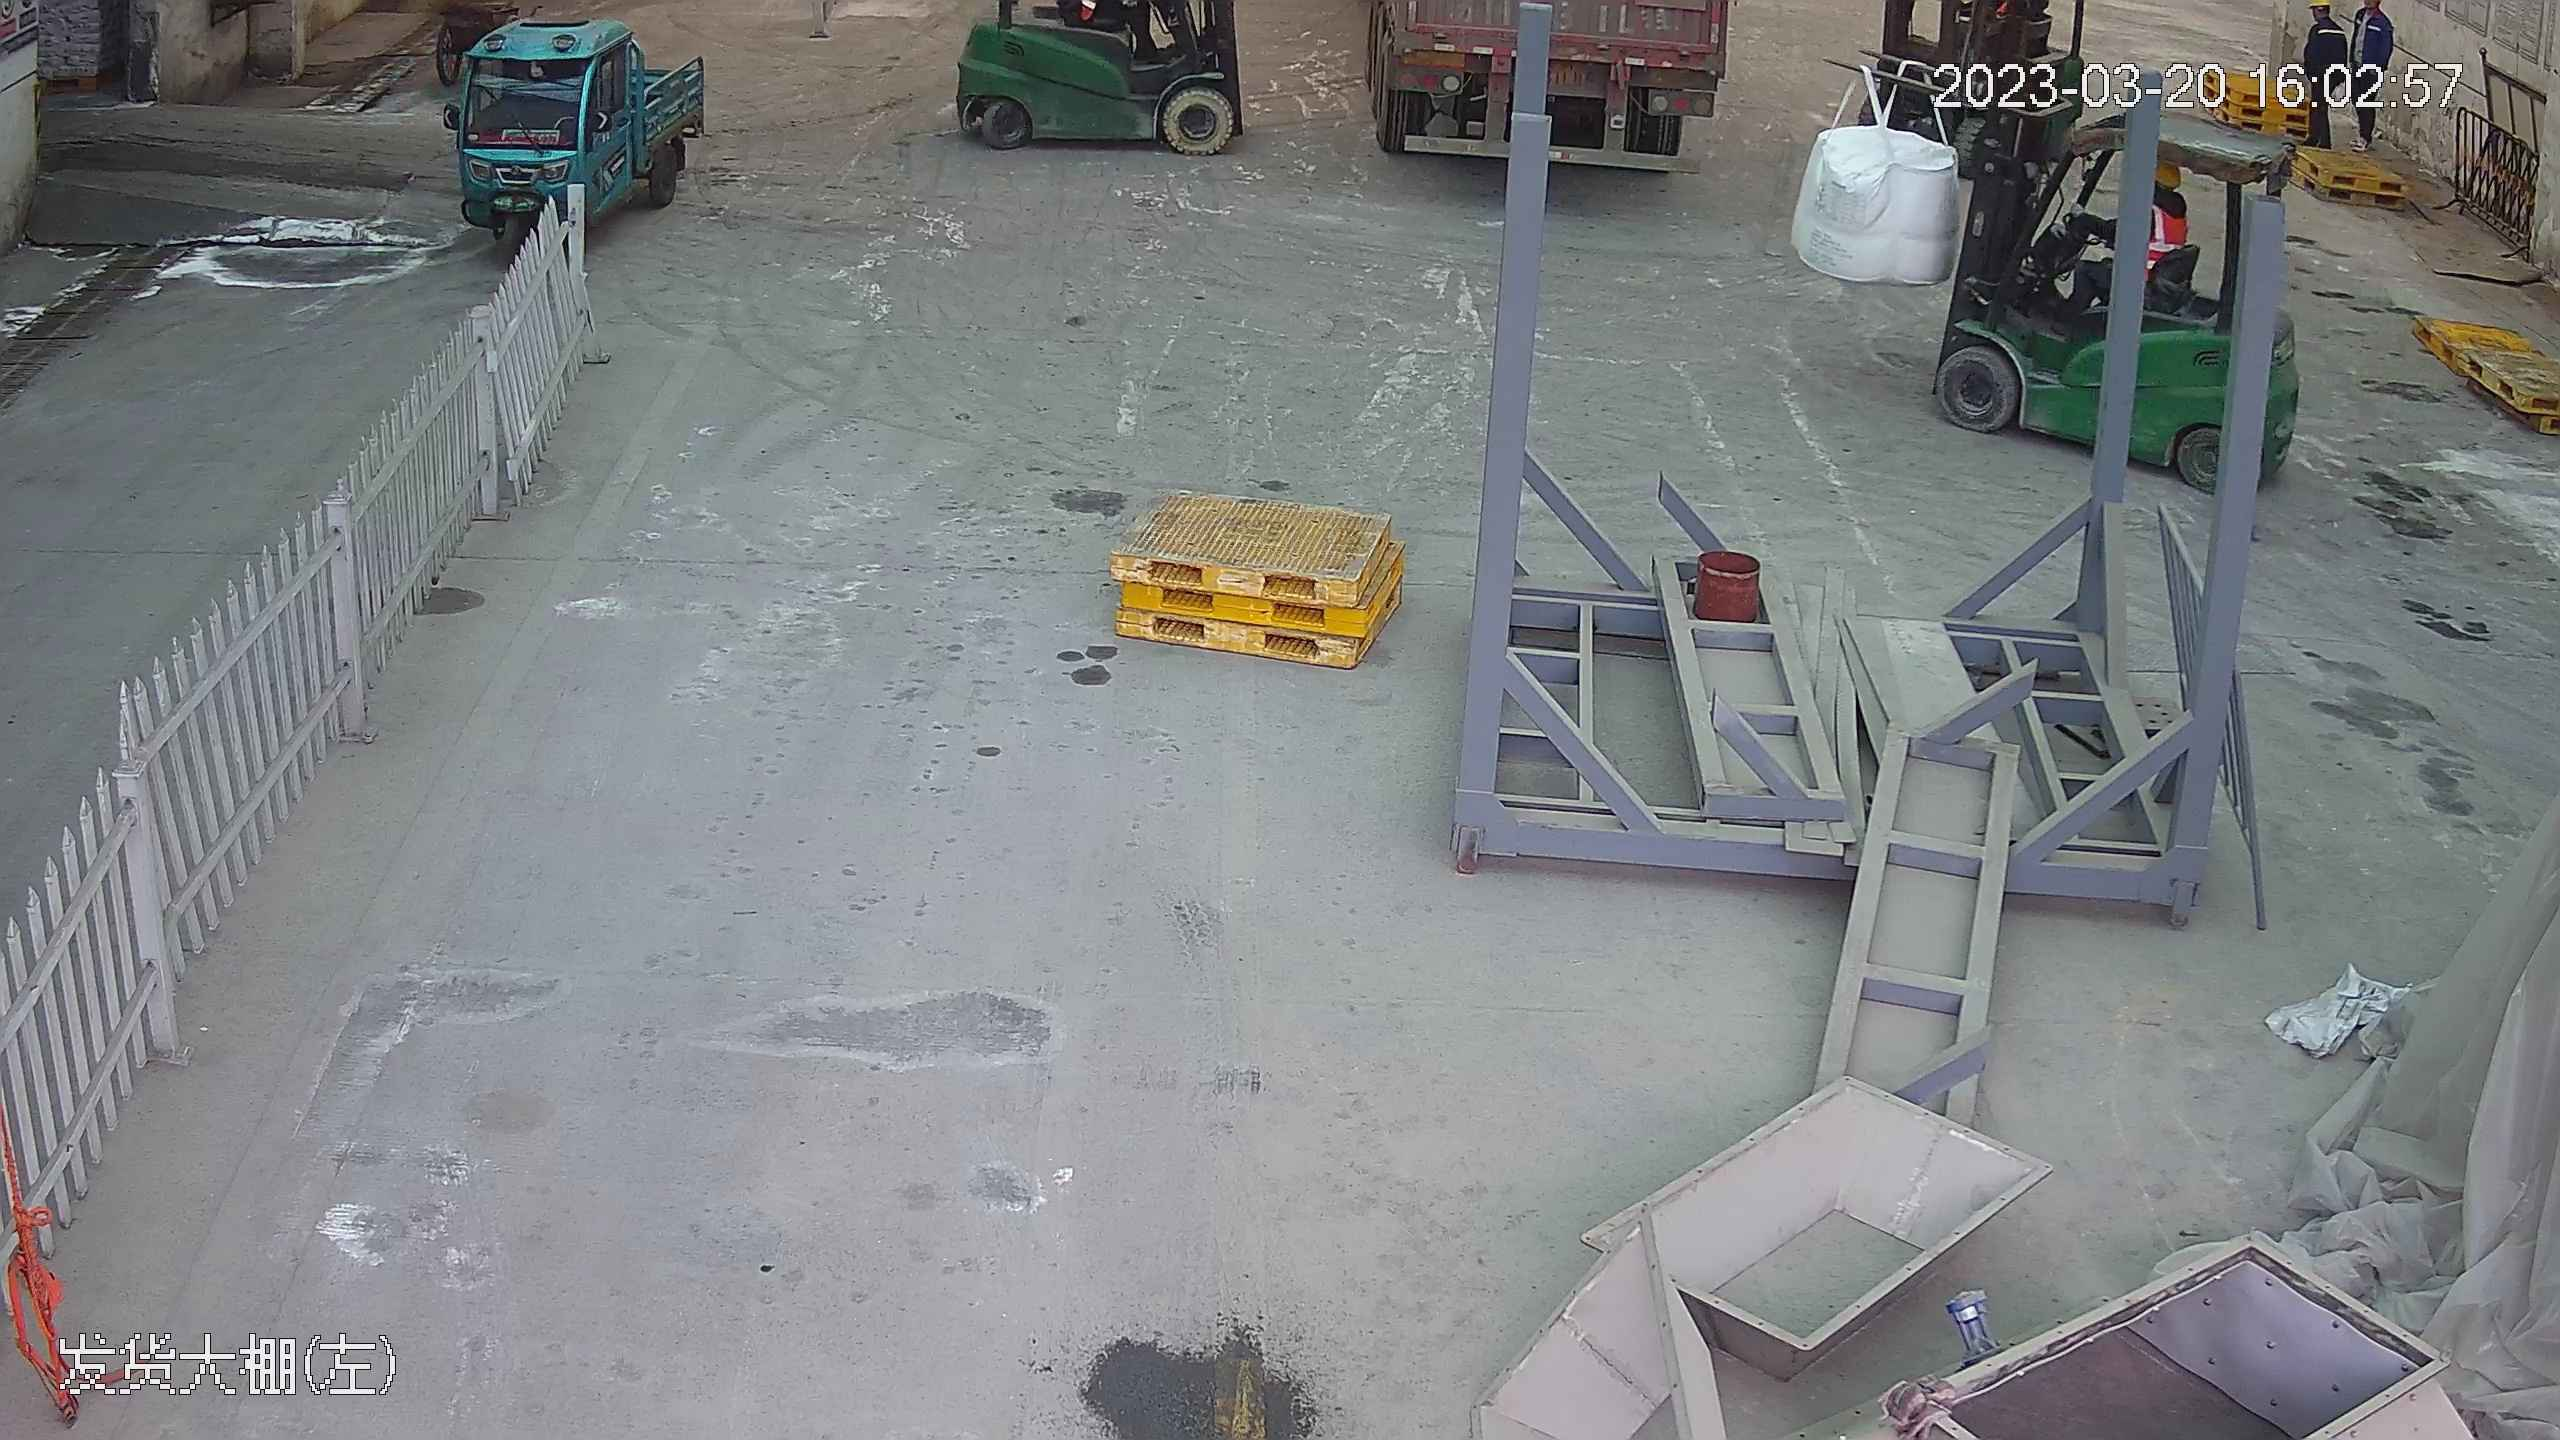head: (2146, 164, 2188, 230)
helmet: (2152, 164, 2178, 188)
people: (2052, 163, 2182, 315), (2320, 1, 2386, 153), (2304, 1, 2359, 146)
truck: (1427, 4, 1737, 164)
